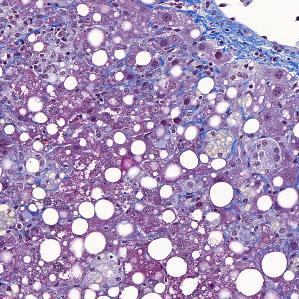fibrosis: (200, 13, 278, 73)
